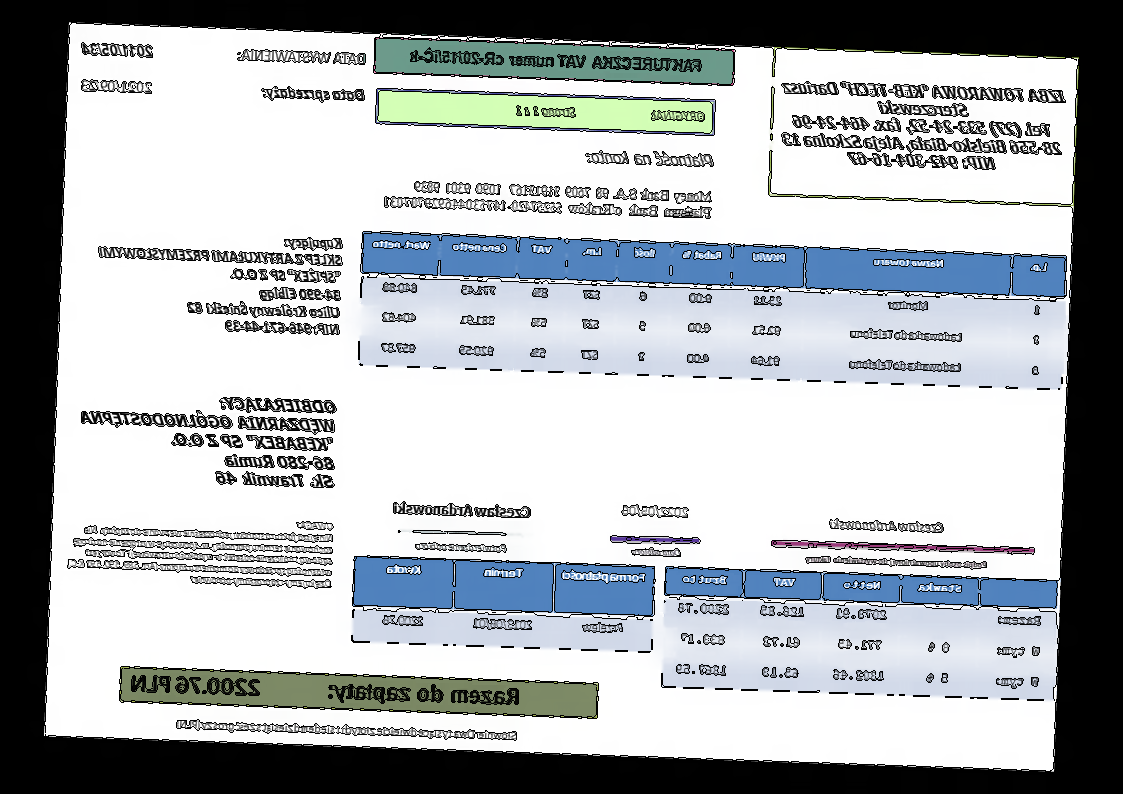Table: (356, 229, 1069, 392), (660, 564, 1060, 702), (350, 553, 657, 654)
TextBox: (778, 75, 1069, 177), (91, 225, 346, 339), (75, 389, 339, 492), (64, 508, 336, 592), (128, 671, 523, 711), (380, 175, 716, 221), (174, 716, 521, 745), (406, 45, 704, 75), (514, 100, 709, 126), (803, 551, 991, 571), (390, 497, 535, 521), (584, 146, 717, 171), (236, 44, 369, 68), (827, 513, 946, 536), (260, 82, 367, 106), (78, 39, 156, 60), (413, 539, 510, 555), (79, 76, 155, 96), (621, 502, 691, 521), (629, 544, 686, 559)
